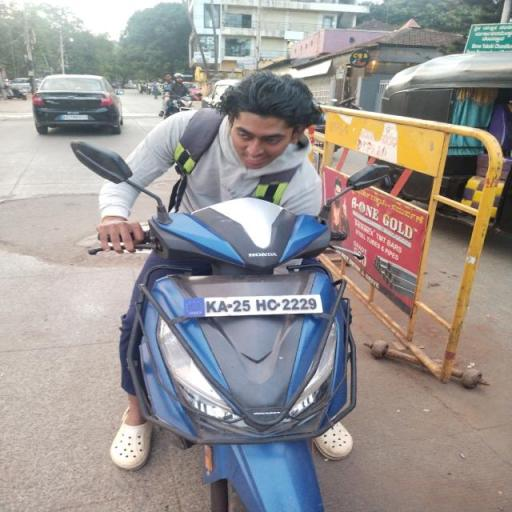bike: (60, 71, 422, 512)
numberplate: (184, 293, 326, 319)
withouthelmet: (221, 76, 314, 167)
